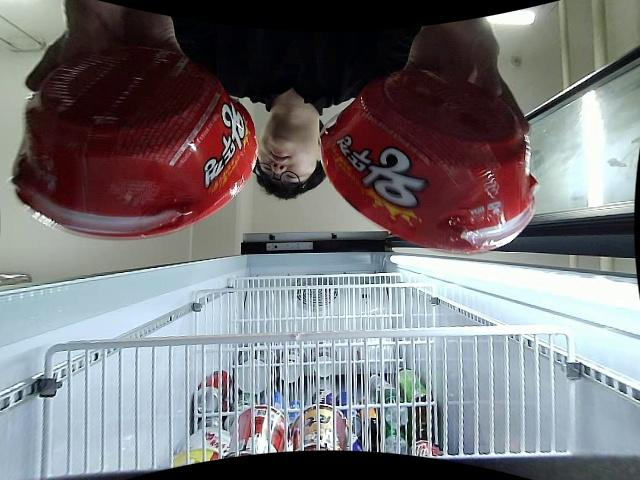00_hand: (25, 0, 185, 101), (403, 21, 533, 136)
10_wangTtukkeong: (11, 51, 258, 239), (317, 69, 536, 254)
